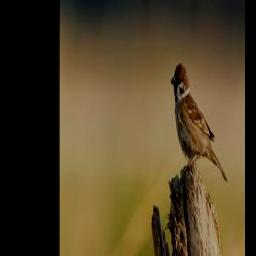Sparrow: (171, 63, 228, 183)
